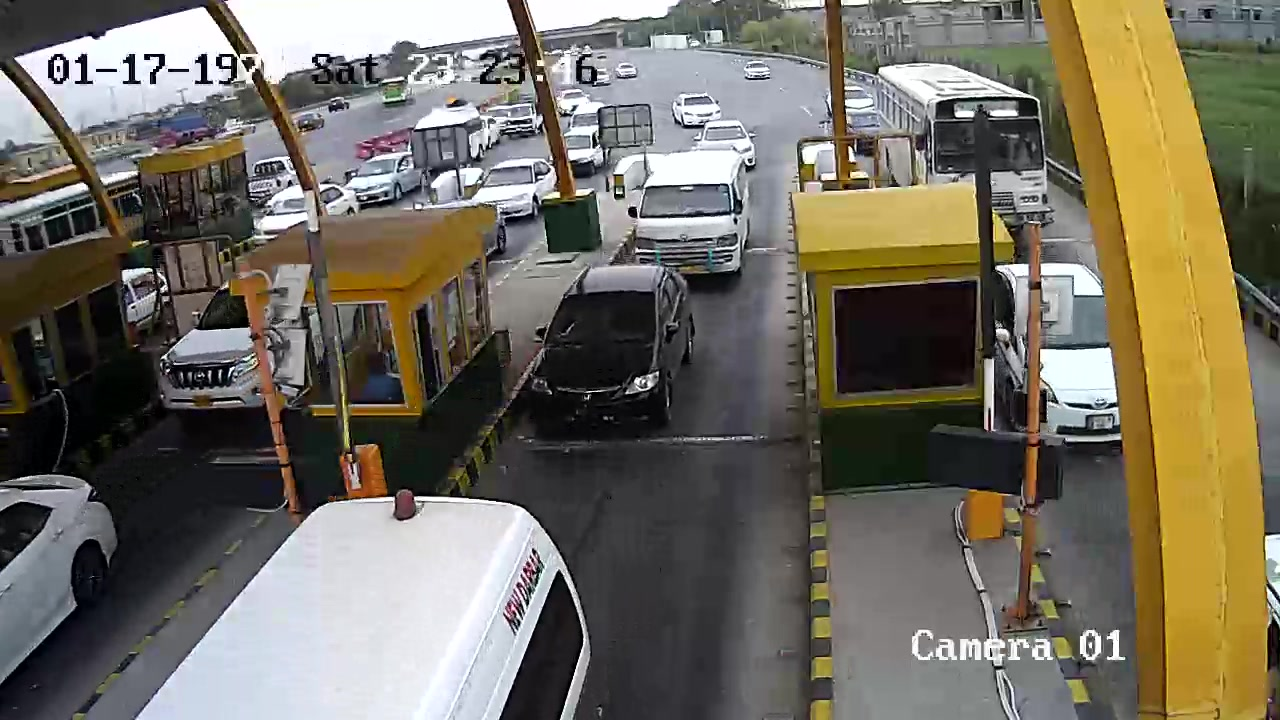F1: (521, 264, 693, 441)
